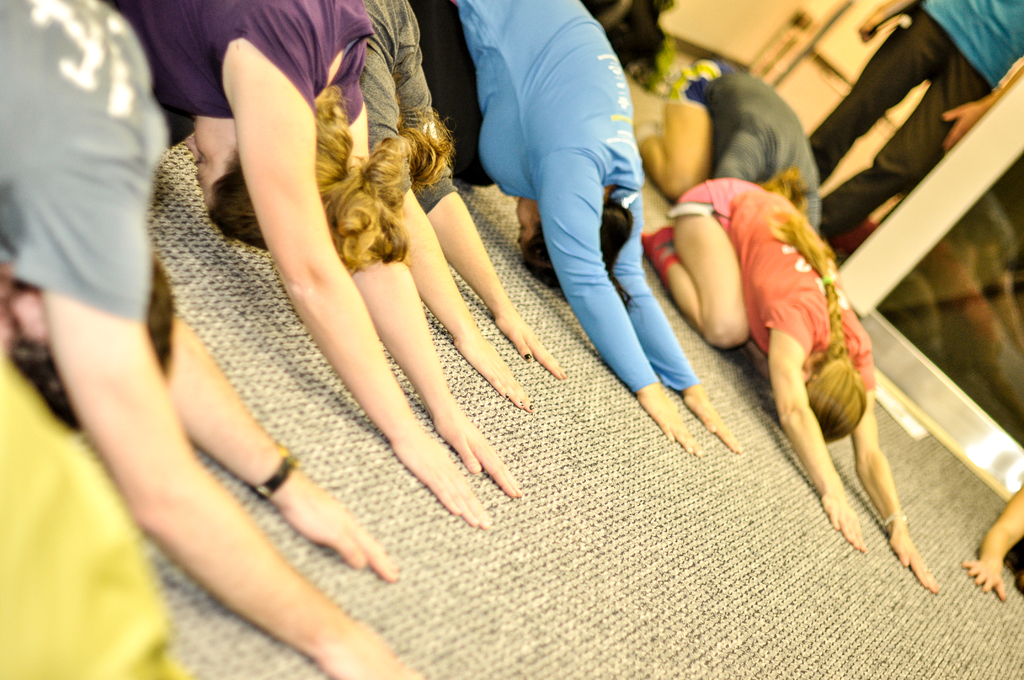Human_hand: (392, 424, 494, 530), (431, 400, 524, 499), (284, 495, 394, 577), (309, 621, 429, 679), (493, 306, 570, 382), (451, 341, 538, 408), (636, 385, 710, 459), (680, 386, 745, 455), (885, 520, 941, 595), (817, 487, 870, 555), (939, 100, 991, 155), (960, 560, 1009, 599), (854, 1, 899, 42)
